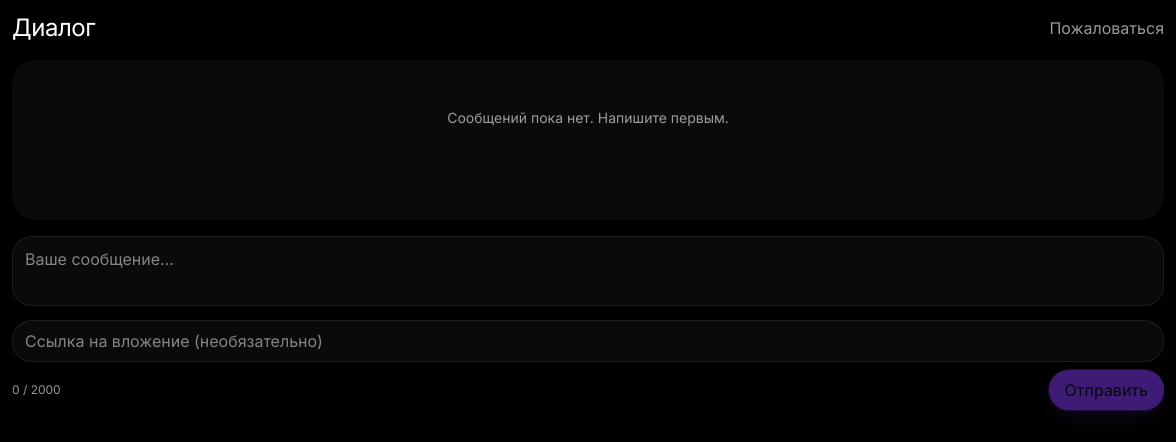
Test: Thread › shows an error indicator when sendMessage fails
Type "привет" into the text box with placeholder "Ваше сообщение…" at (588, 271), box [12,236,1164,306]
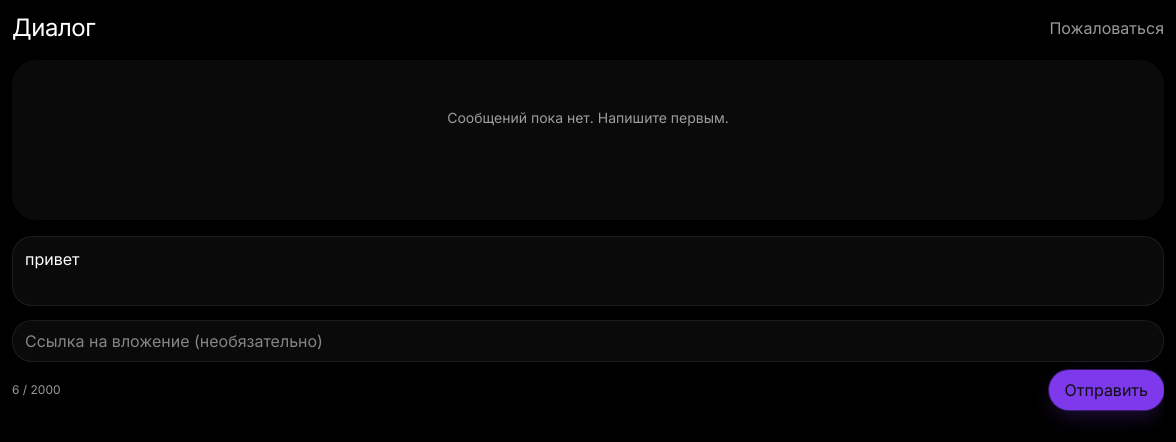
Click the button "Отправить" at (1106, 390), box [1049,370,1164,410]
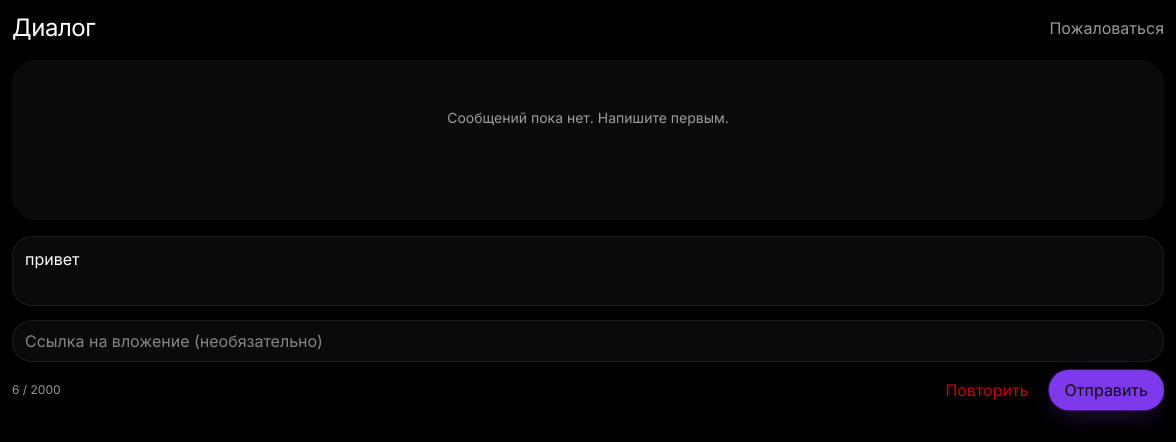
Expected: the button "Повторить" is shown, [933,370,1041,410]
